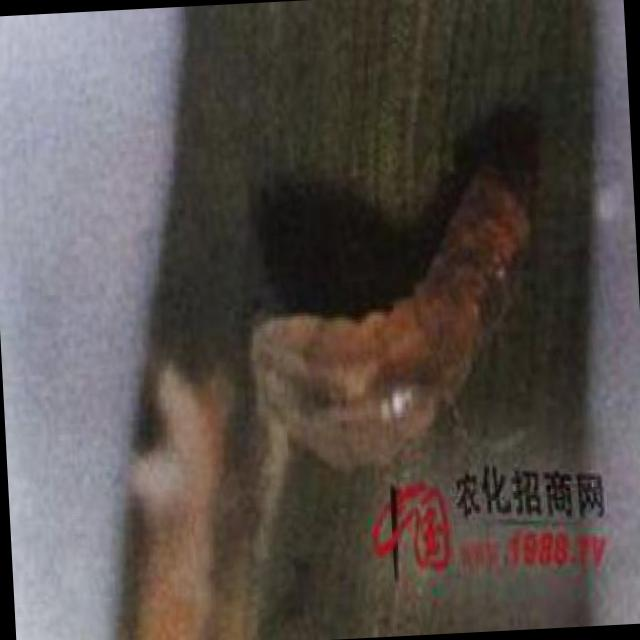whorl-maggot: (246, 157, 540, 470)
